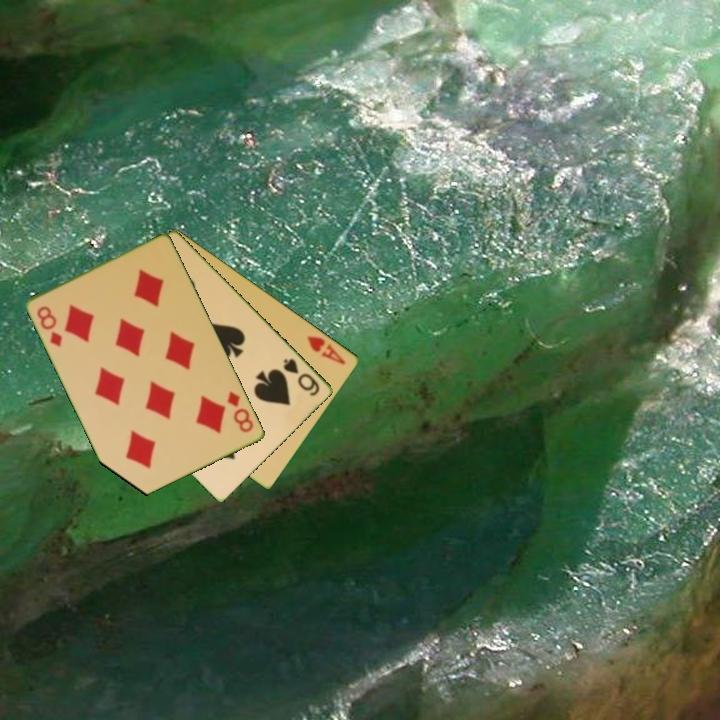6s: (280, 355, 323, 399)
8d: (224, 388, 257, 436), (34, 302, 66, 350)
Ah: (304, 332, 349, 368)
